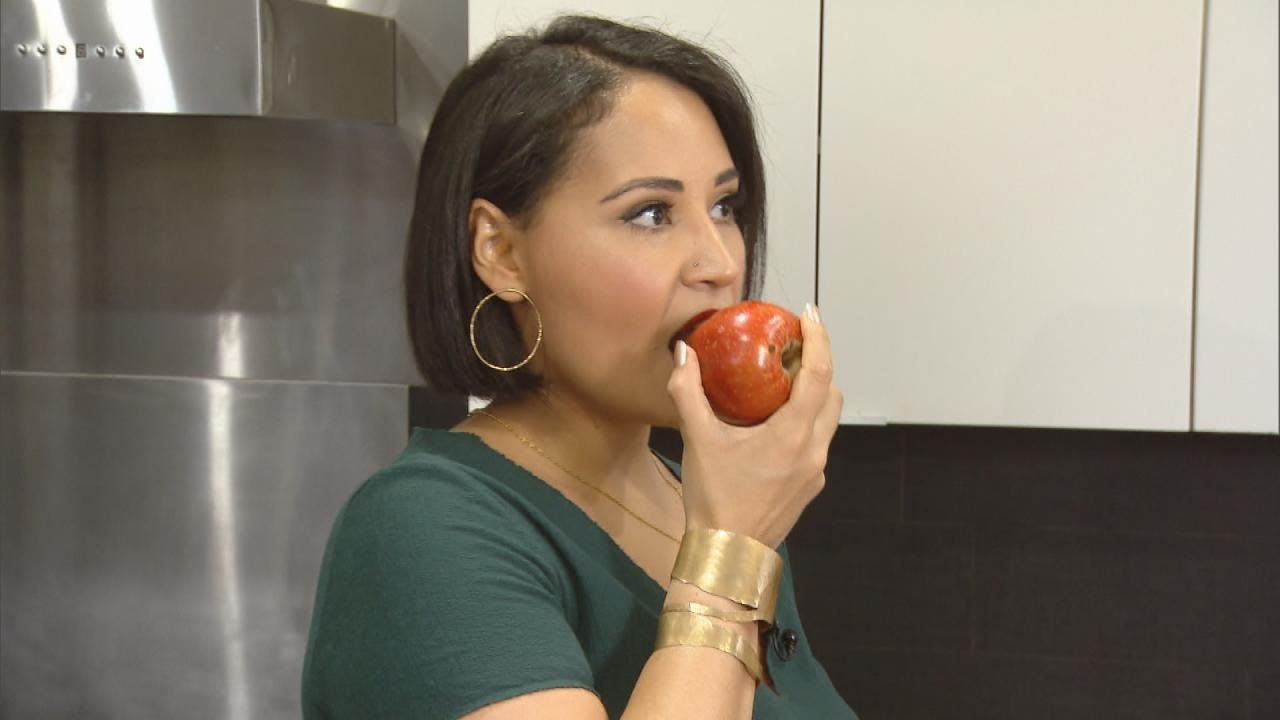eating: (404, 17, 906, 527)
